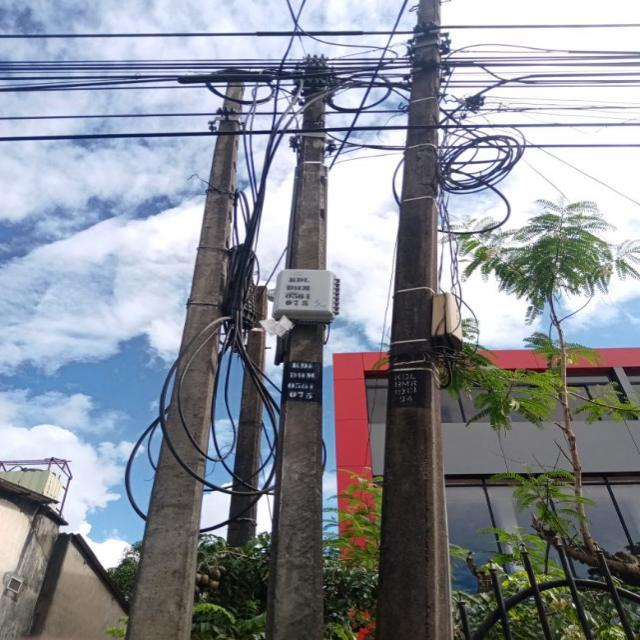light_pole: (122, 64, 244, 640), (374, 0, 462, 640), (268, 58, 345, 640)
